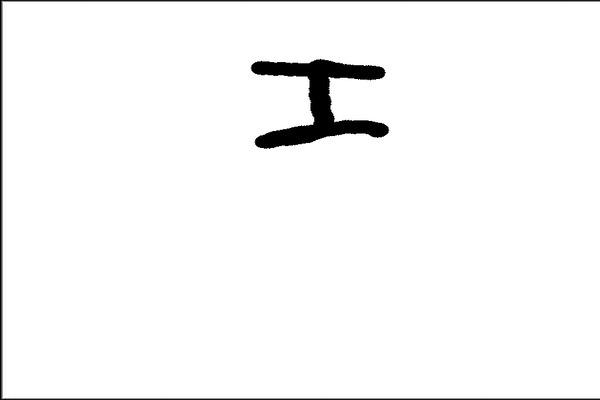i: (240, 45, 396, 160)
